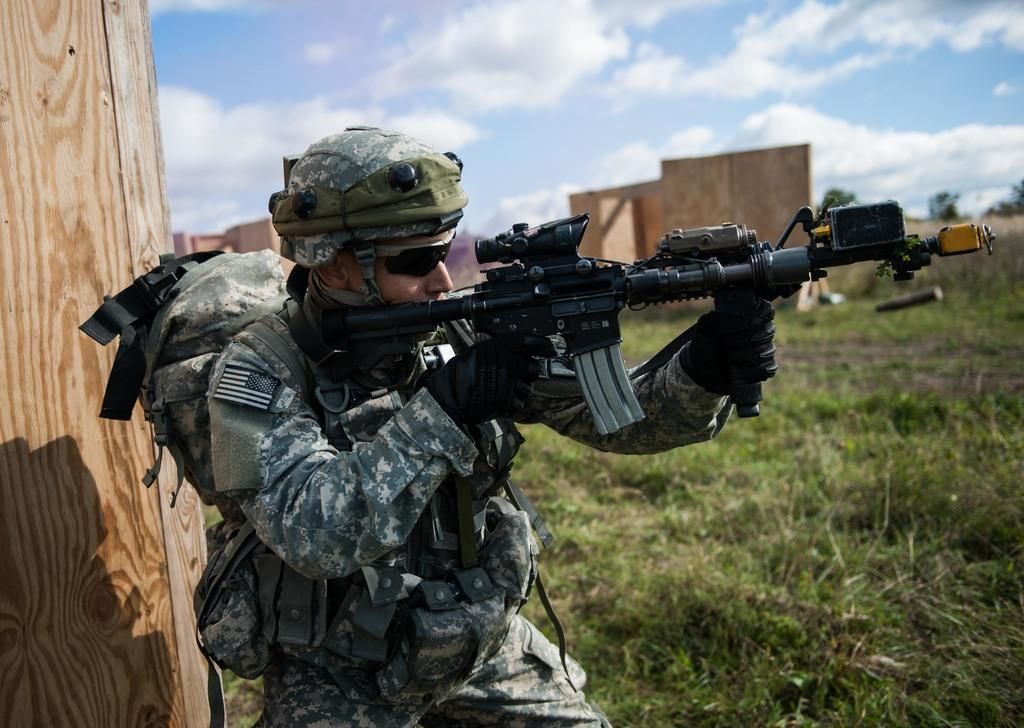Rifle: (311, 213, 991, 433)
